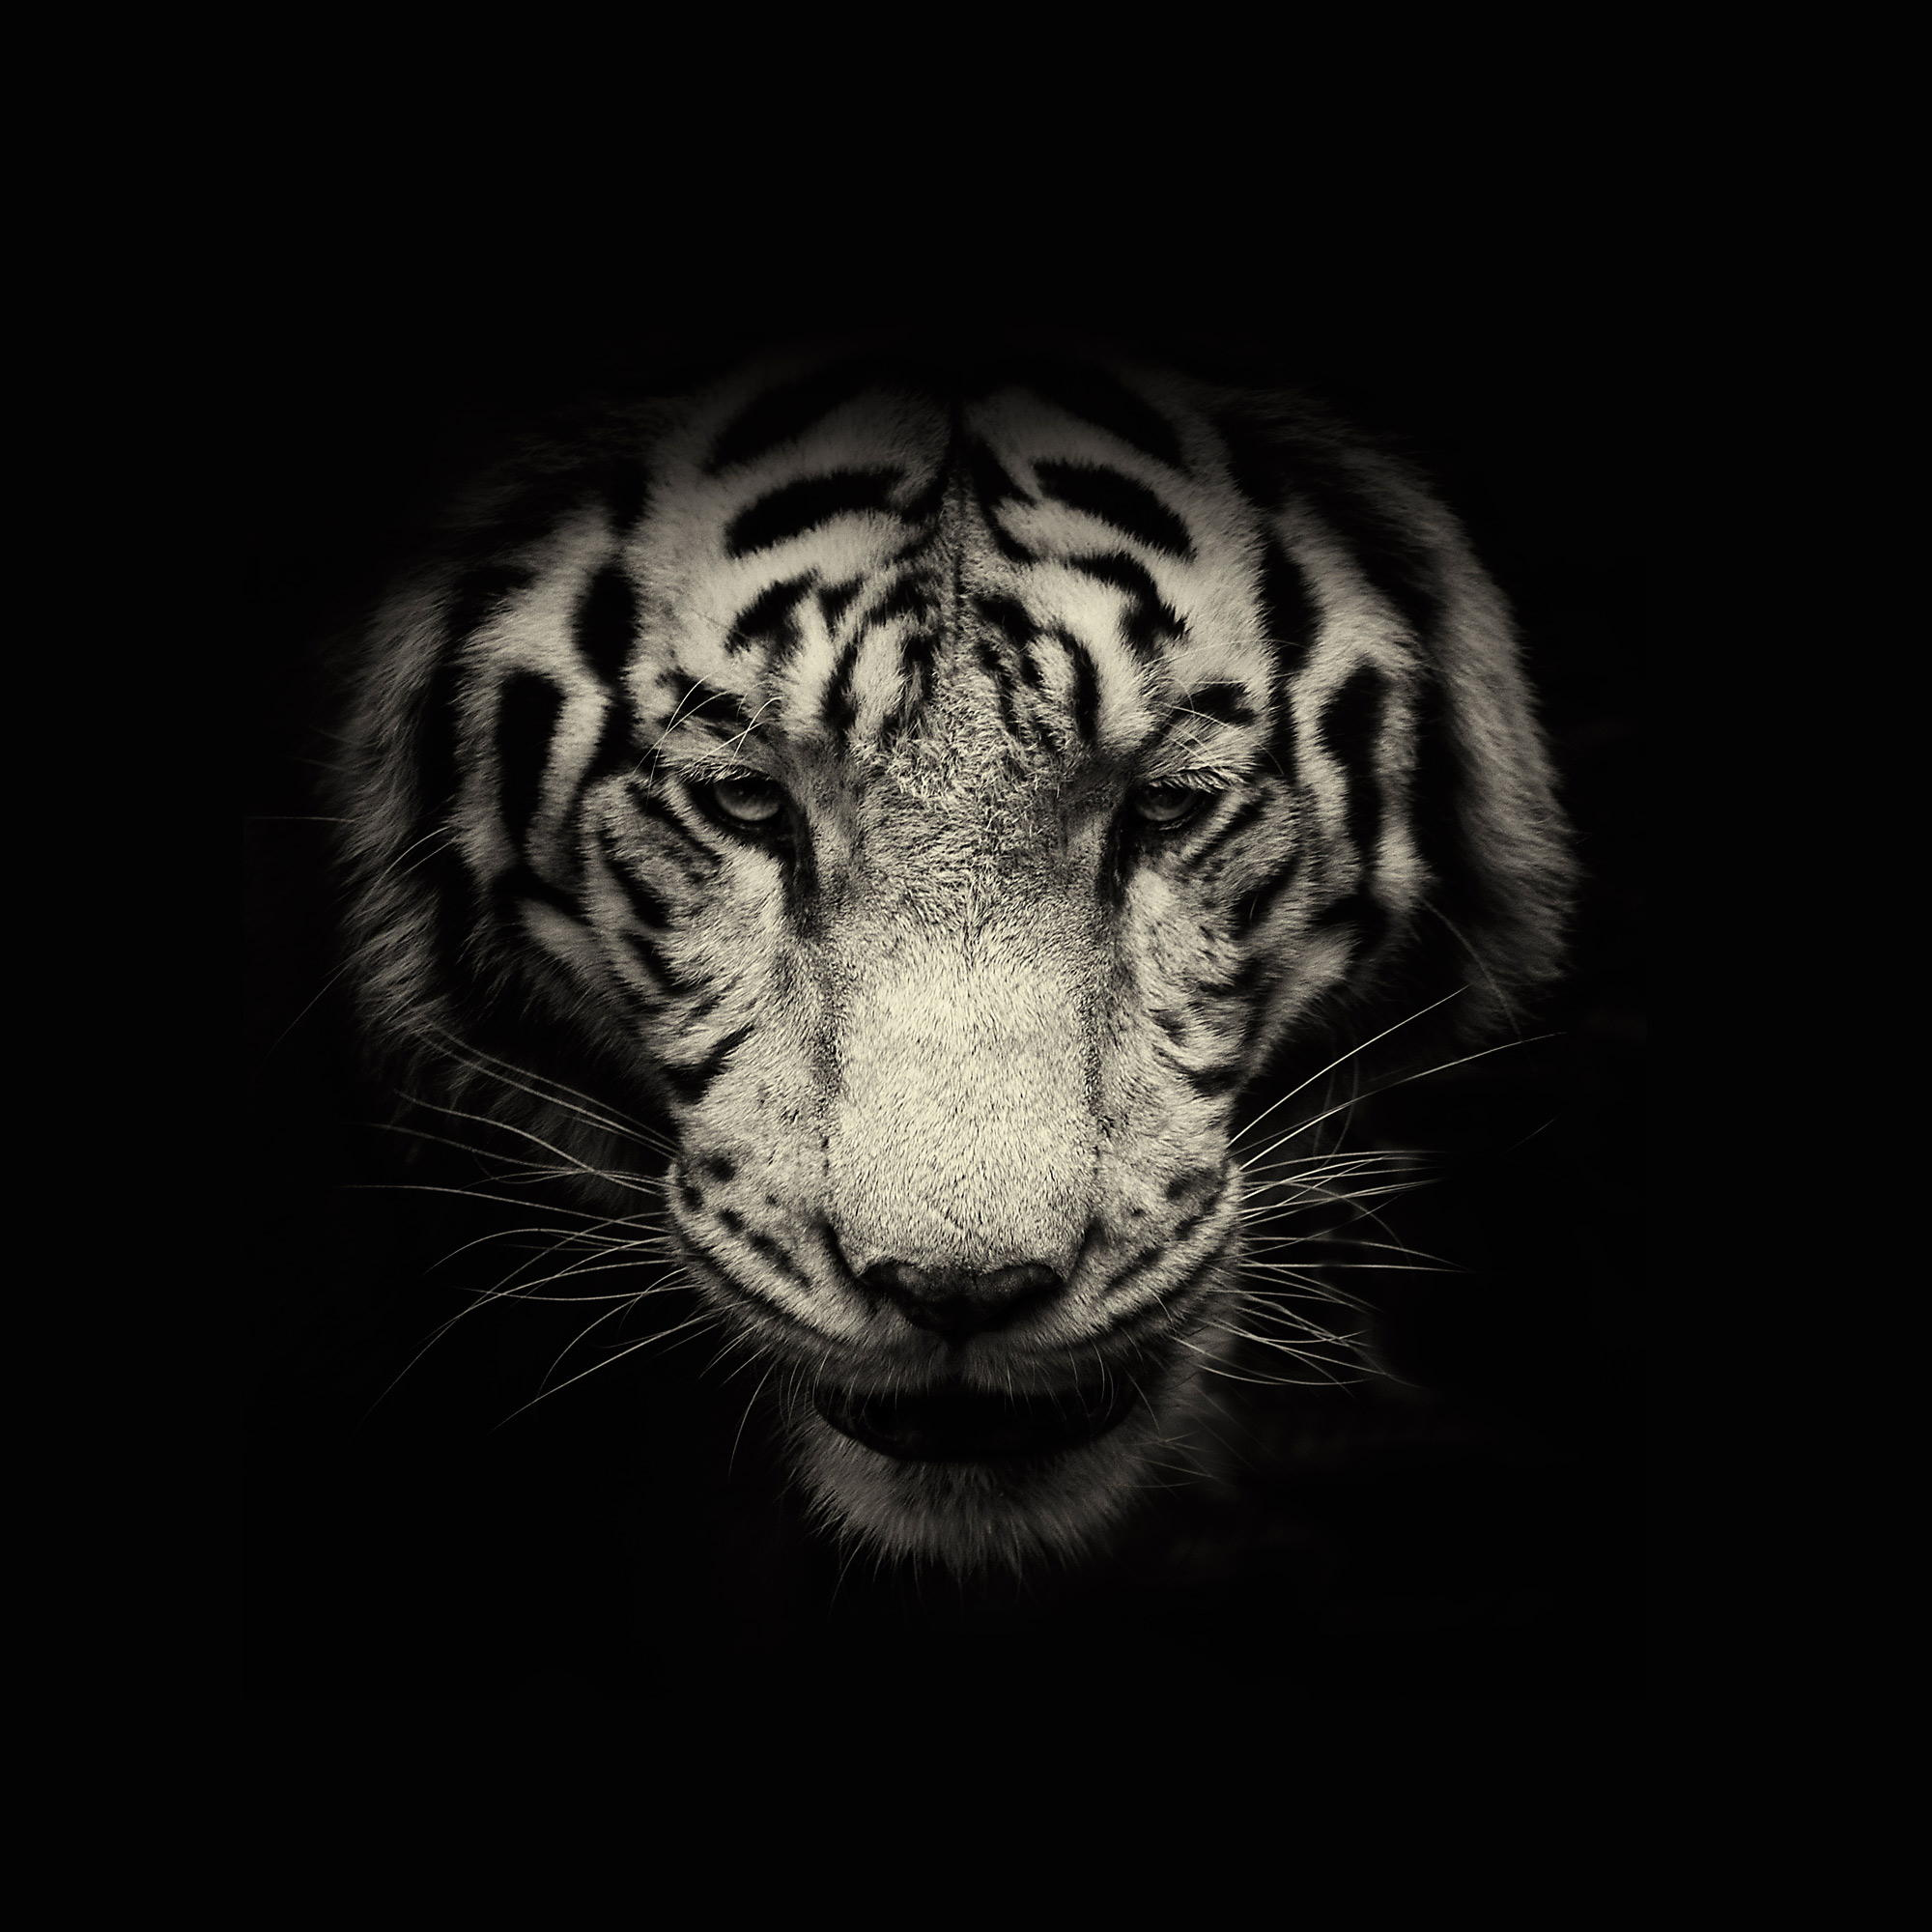tiger: (373, 303, 1545, 1568)
